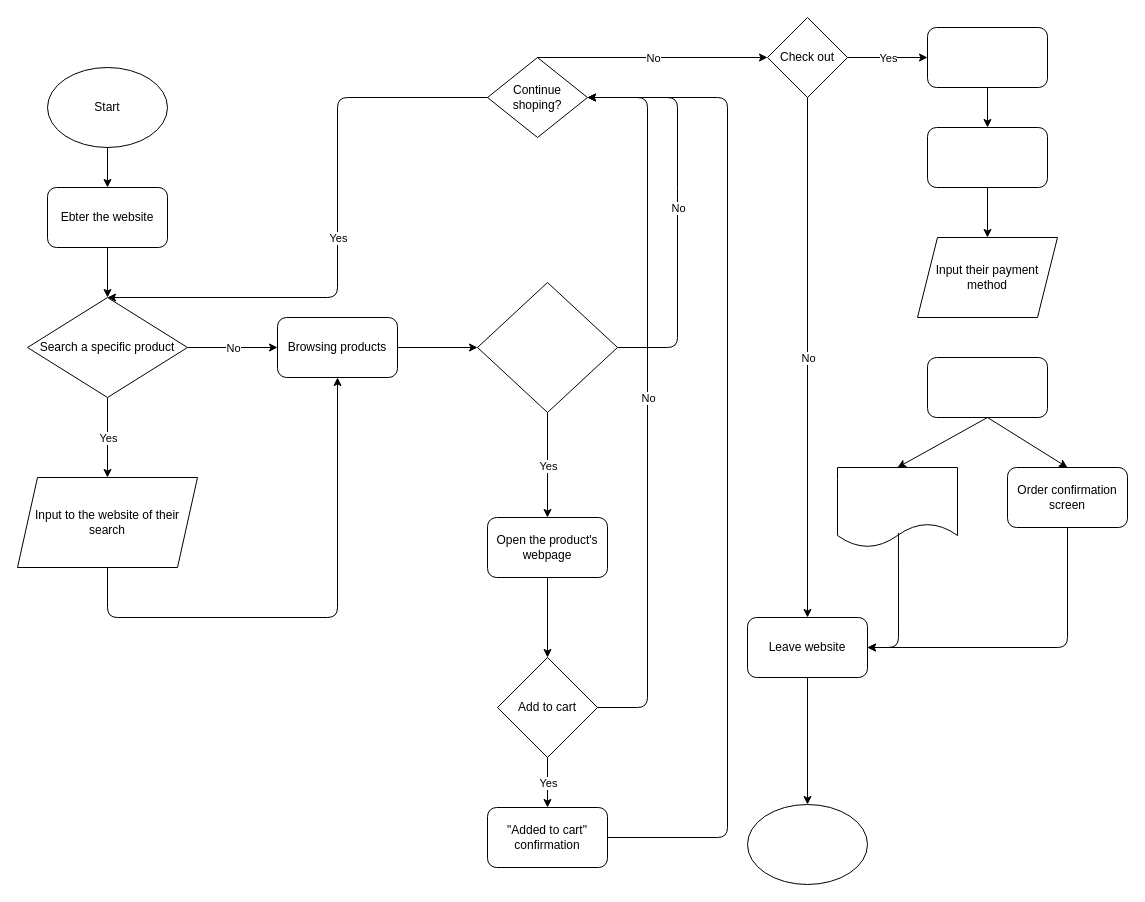
This 1145x902 diagram has some shape labels left out. Here are the shapes that lost their labels. From the top down, the centre of each, then its label:
At point (987, 57): "Go to view cart screen".
At point (987, 157): "Go to view payment screen".
At point (547, 347): "Click into a specific product".
At point (987, 387): "Pay the order".
At point (897, 507): "Order confirmation email".
At point (807, 844): "End".
